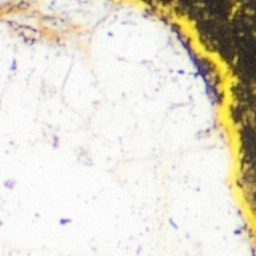cement_matrix: (144, 0, 255, 202), (196, 58, 218, 97)
cracks: (116, 0, 255, 255), (195, 57, 219, 98), (0, 1, 28, 17)
gravel_crushed_stones: (0, 0, 253, 255)
